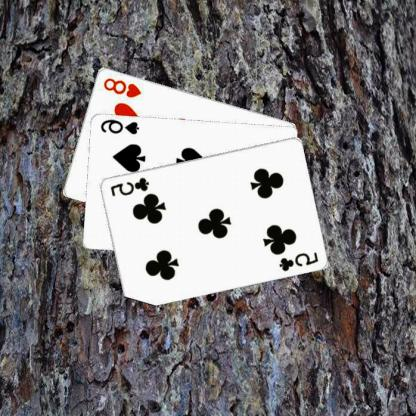5C: (278, 249, 320, 272), (109, 175, 151, 197)
6S: (99, 116, 142, 135)
8H: (103, 74, 144, 99)
